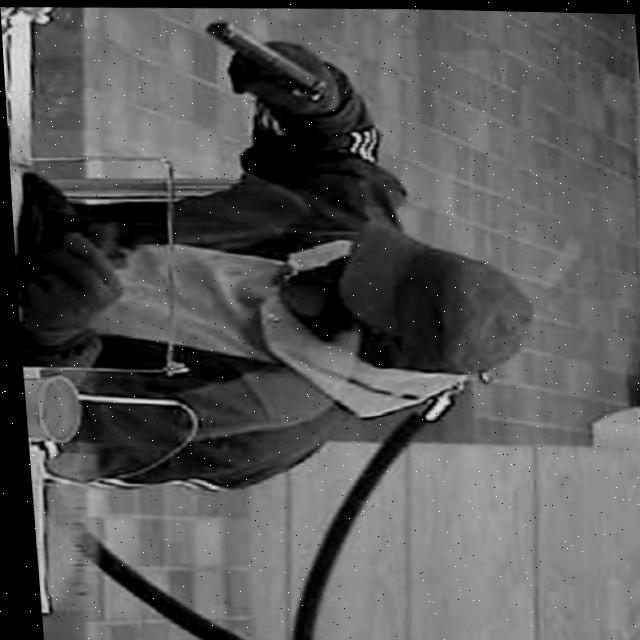pistol: (207, 18, 327, 100)
